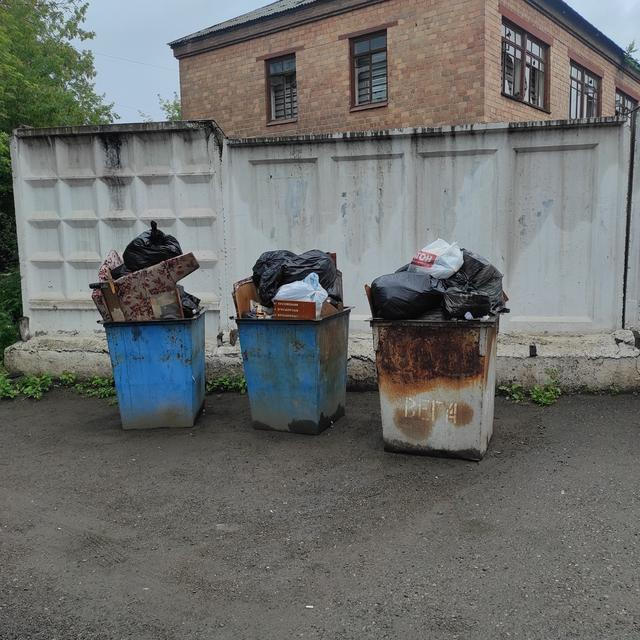Trash_Can_Full: (363, 238, 510, 461), (89, 220, 205, 429), (233, 250, 353, 436)
